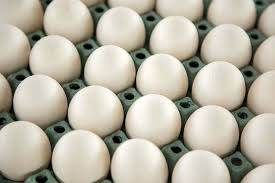eggs: (13, 68, 77, 122), (127, 45, 188, 99), (75, 81, 128, 137), (114, 91, 176, 137), (31, 0, 96, 41), (176, 151, 259, 183), (184, 108, 237, 157), (29, 35, 80, 85), (108, 142, 169, 183), (94, 7, 151, 50), (199, 55, 243, 110), (53, 130, 101, 178), (144, 17, 199, 57), (7, 116, 44, 171), (202, 25, 250, 66), (83, 51, 136, 86)
